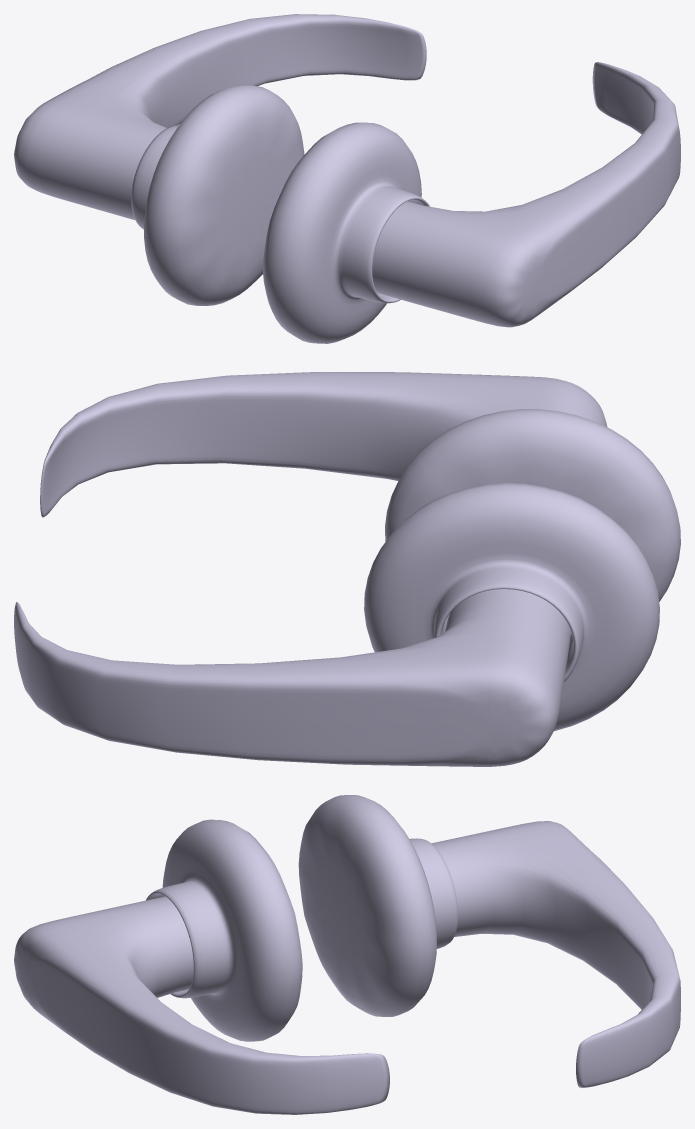
File: frontdoorHandle.fbx
The picture shows the model from 3 angles, top to bottom: view 1: azimuth 30°, elevation 25°; view 2: azimuth 150°, elevation 25°; view 3: azimuth 270°, elevation 25°; orthographic projection. The views are drawn at different scales.
Parts seen in each view (by area): view 1: Handle_Back.002; view 2: Handle_Back.002; view 3: Handle_Back.002.
Boxes of the visible parts, x1,y1,x2,y2 form: Handle_Back.002: [14, 14, 680, 343]; Handle_Back.002: [14, 372, 680, 766]; Handle_Back.002: [14, 795, 680, 1114].
Bounding box in the file's own units: 192 × 71.37 × 213.
